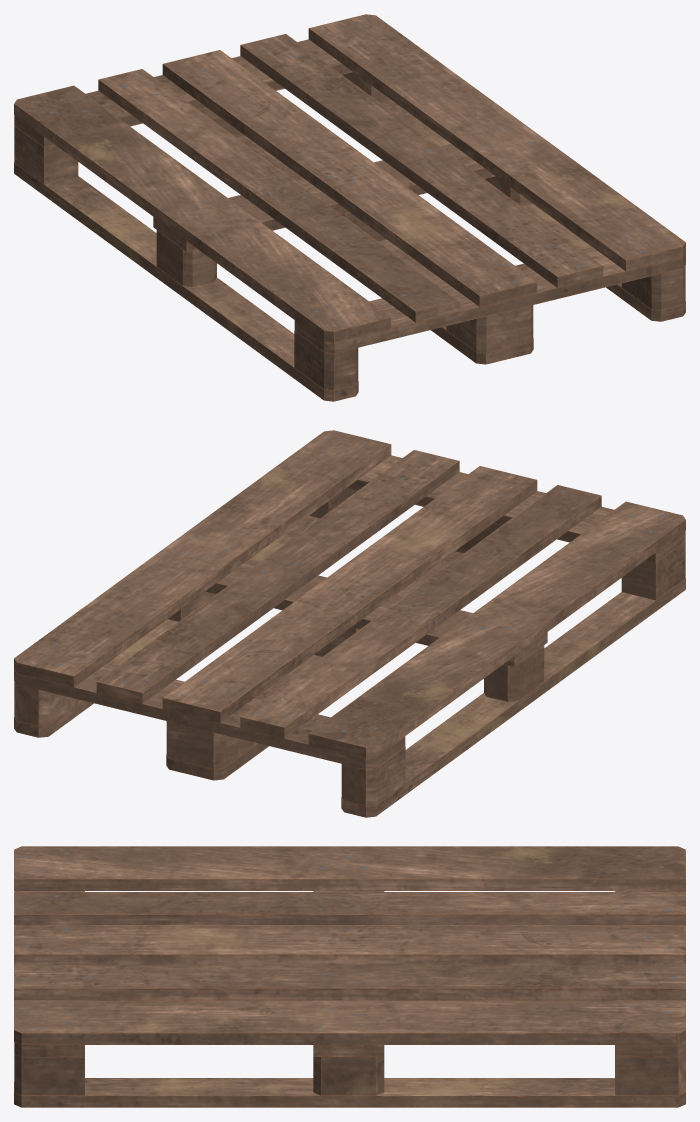
The model's file is industrial.glb.
3 views of the same model, one above another, from view 1: azimuth 30°, elevation 25°; view 2: azimuth 150°, elevation 25°; view 3: azimuth 270°, elevation 25° (orthographic). The views are drawn at different scales.
Visible parts, largest first — view 1: palette; view 2: palette; view 3: palette.
Part boxes in pixels (x1,y1,x2,y2): palette: [14, 14, 685, 401]; palette: [14, 430, 685, 817]; palette: [14, 846, 685, 1107].
Bounding box in the file's own units: 40.36 × 7.46 × 61.25.
Materials: 1 (1 with a texture image).
